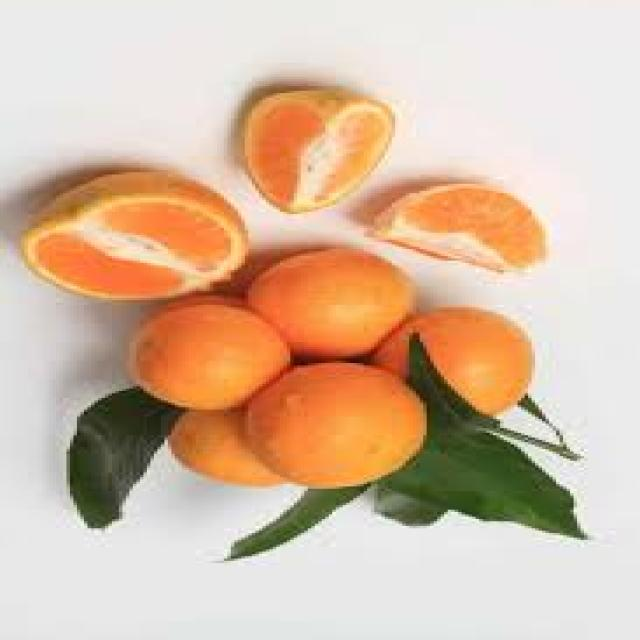orange: (258, 352, 436, 507)
